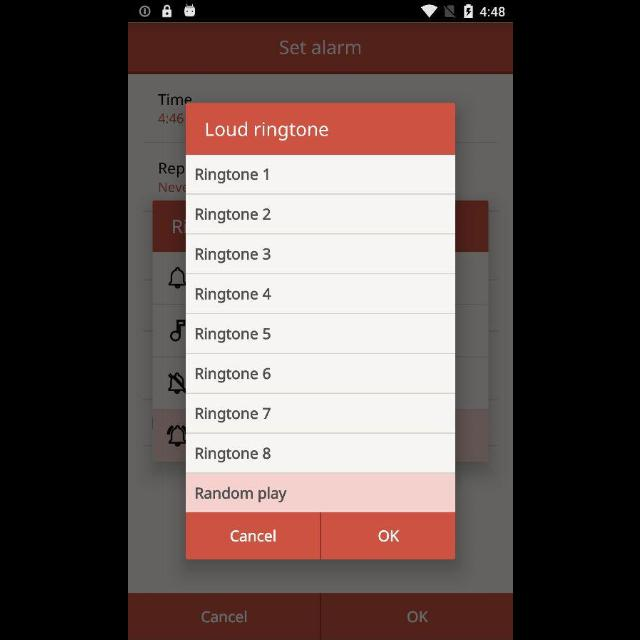panel: (185, 103, 455, 559)
text: (205, 122, 328, 142), (195, 486, 287, 502), (195, 366, 271, 384), (196, 326, 270, 344), (278, 40, 360, 56), (196, 208, 270, 225), (195, 288, 271, 304), (195, 447, 271, 463), (195, 169, 269, 185), (196, 248, 270, 264), (196, 407, 270, 423)
textbutton: (320, 592, 512, 640), (128, 594, 320, 640), (321, 512, 455, 560), (186, 512, 320, 560)
uppertaskbar: (128, 1, 512, 23)
